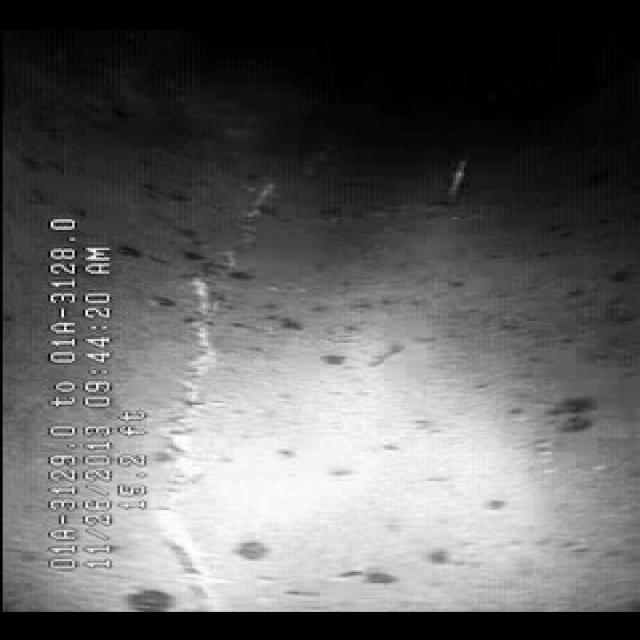Crack: (154, 192, 268, 468)
